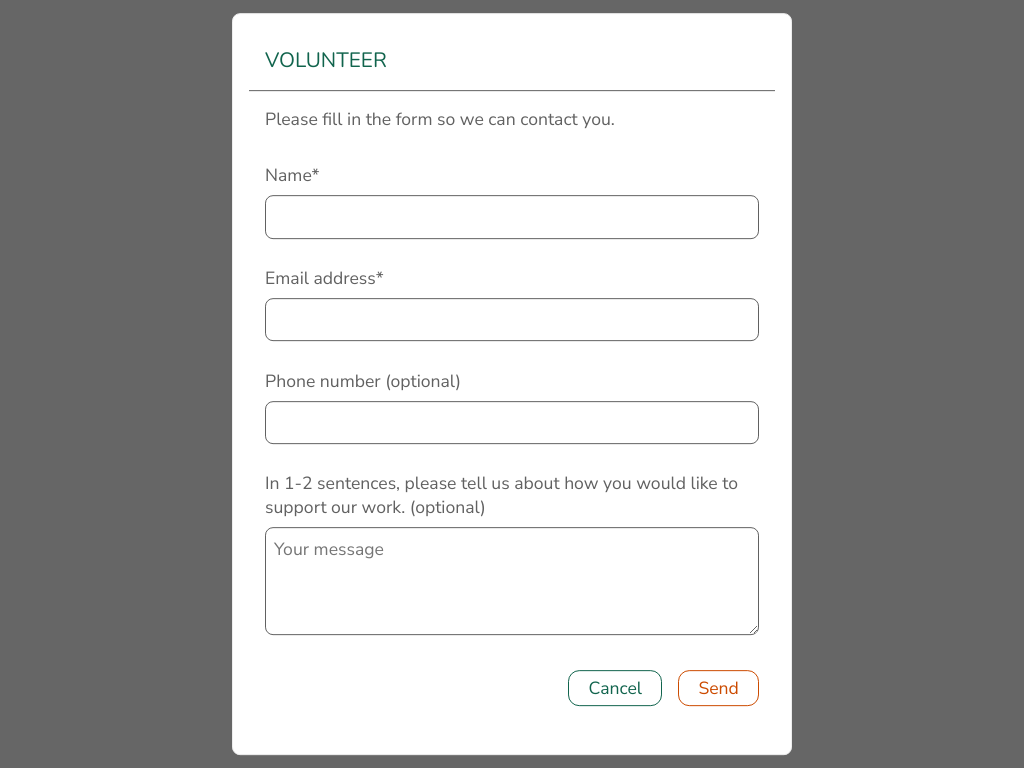
Scenario: Volunteer form submission with insufficient data renders error messages
Note: Click the send button
Click the button "Send": x=719, y=688 [678,670,759,706]
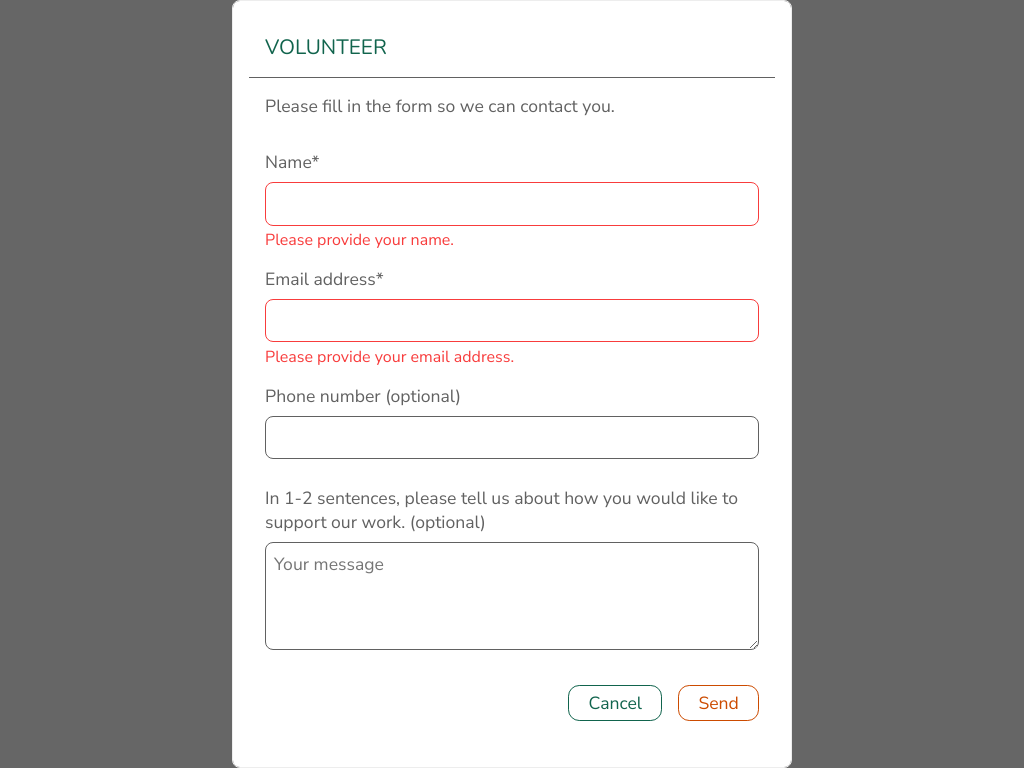
Check: the text "Please provide your name." is shown, box [265,229,454,251]
Check: the text "Please provide your email address." is shown, box [265,346,514,368]
